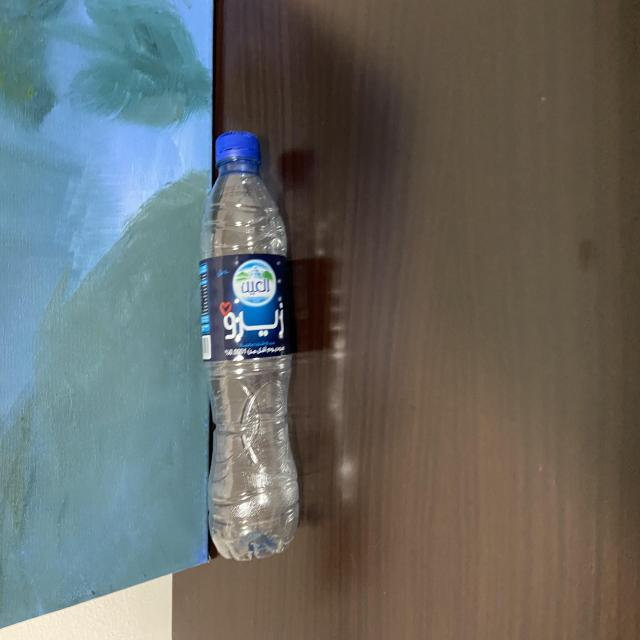bottle: (186, 116, 307, 580)
